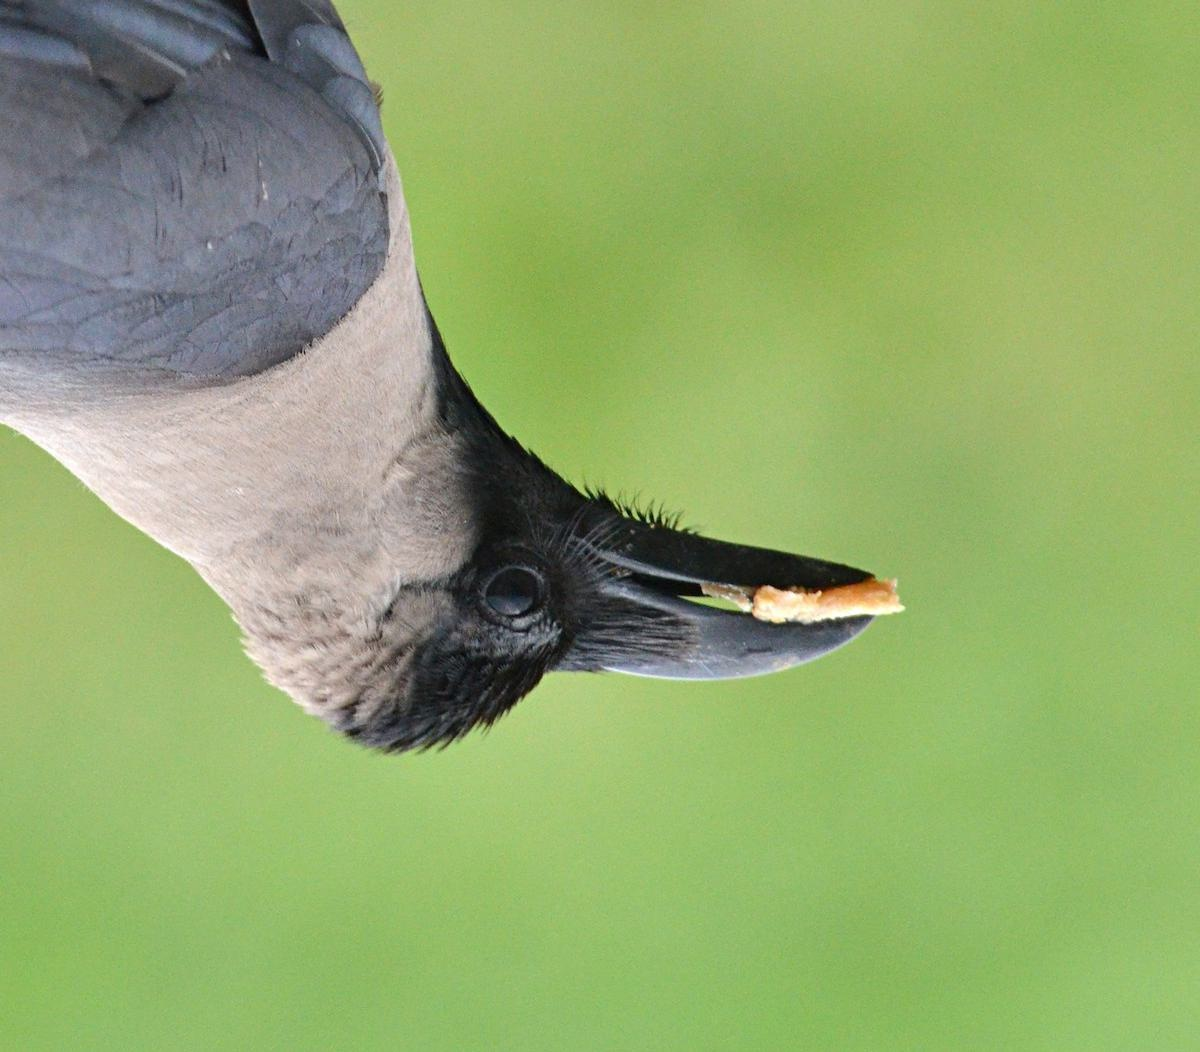crow: (1, 1, 935, 793)
